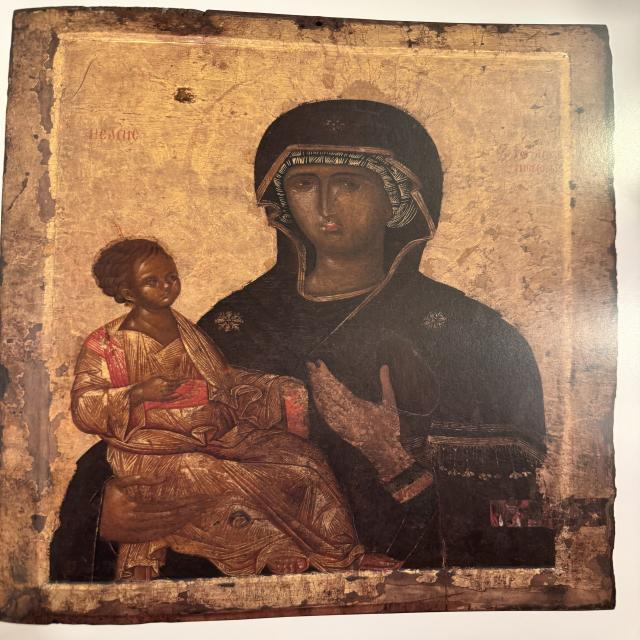christ_child: (56, 206, 380, 569)
christ_hand: (129, 368, 195, 412)
mary_and_child: (56, 51, 574, 575)
